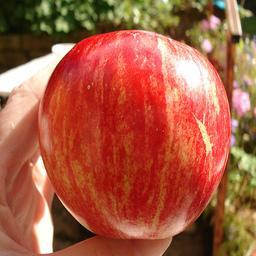apple: (35, 30, 233, 243)
